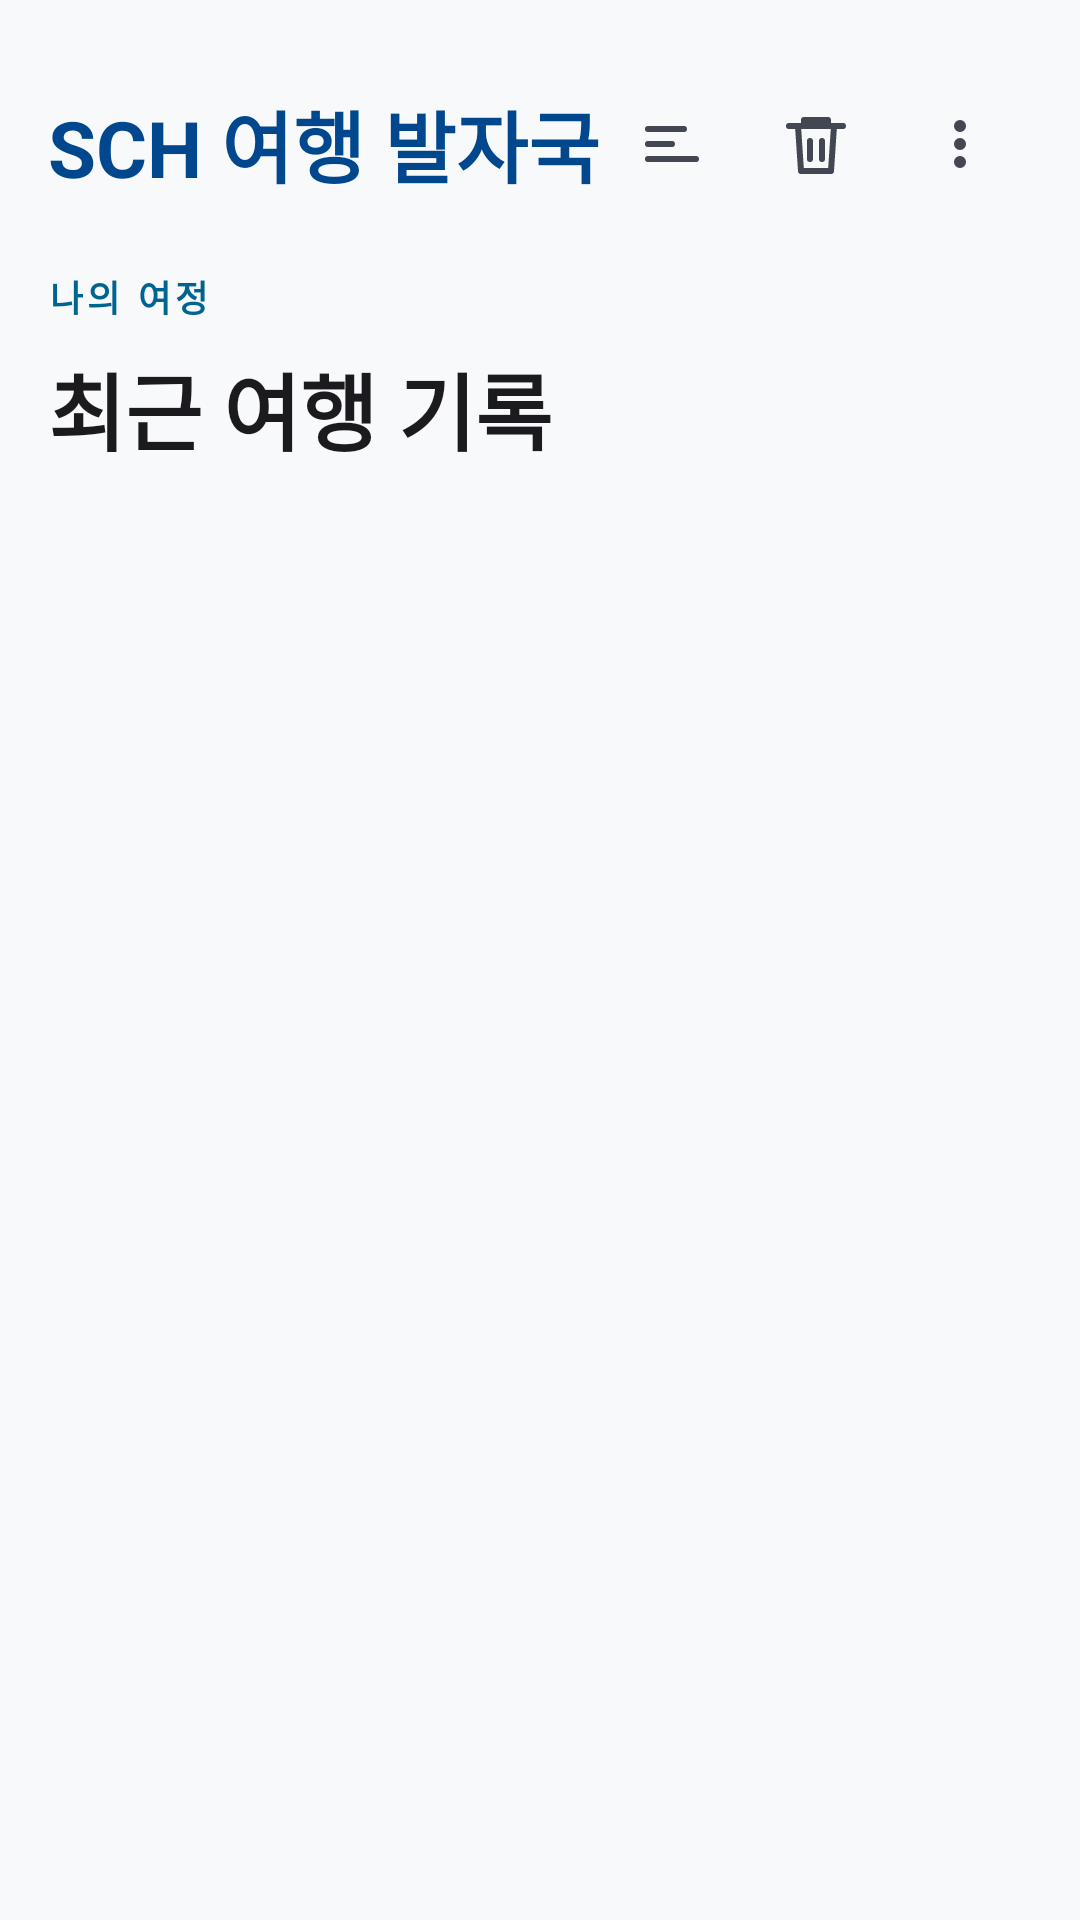

Locate icon controls on the screen. Image size 1080x1920, boxes as (x1, y1, x2, y2).
삭제: (786, 117, 846, 174)
정렬 변경: (645, 126, 699, 162)
